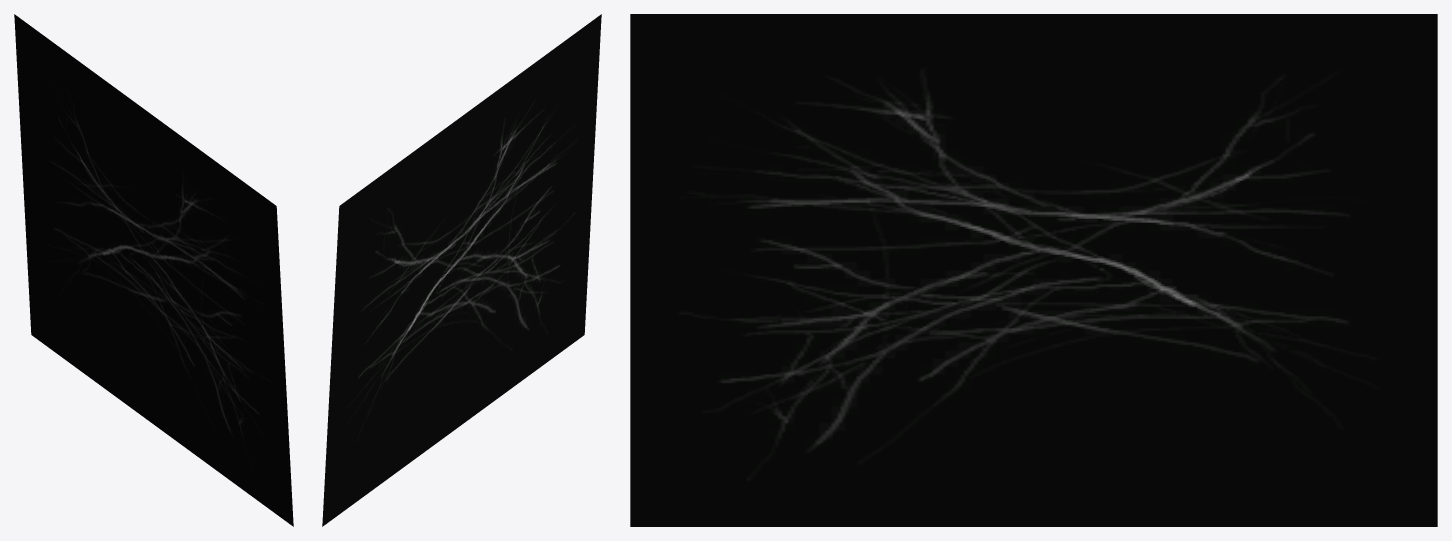
The model's file is MIRKWOOD_WEB_DECOR04.fbx.
The picture shows the model from 3 angles, left to right: view 1: azimuth 30°, elevation 25°; view 2: azimuth 150°, elevation 25°; view 3: azimuth 270°, elevation 25°; orthographic projection. The views are drawn at different scales.
Visible parts, largest first — view 1: MIRKWOOD_WEB_DECOR04; view 2: MIRKWOOD_WEB_DECOR04; view 3: MIRKWOOD_WEB_DECOR04.
Part boxes in pixels (x1=…): MIRKWOOD_WEB_DECOR04: x1=14, y1=14, x2=293, y2=526; MIRKWOOD_WEB_DECOR04: x1=322, y1=14, x2=601, y2=526; MIRKWOOD_WEB_DECOR04: x1=630, y1=14, x2=1437, y2=526.
Bounding box in the file's own units: 5634 × 103062 × 150789.
Materials: 1 (1 with a texture image).
